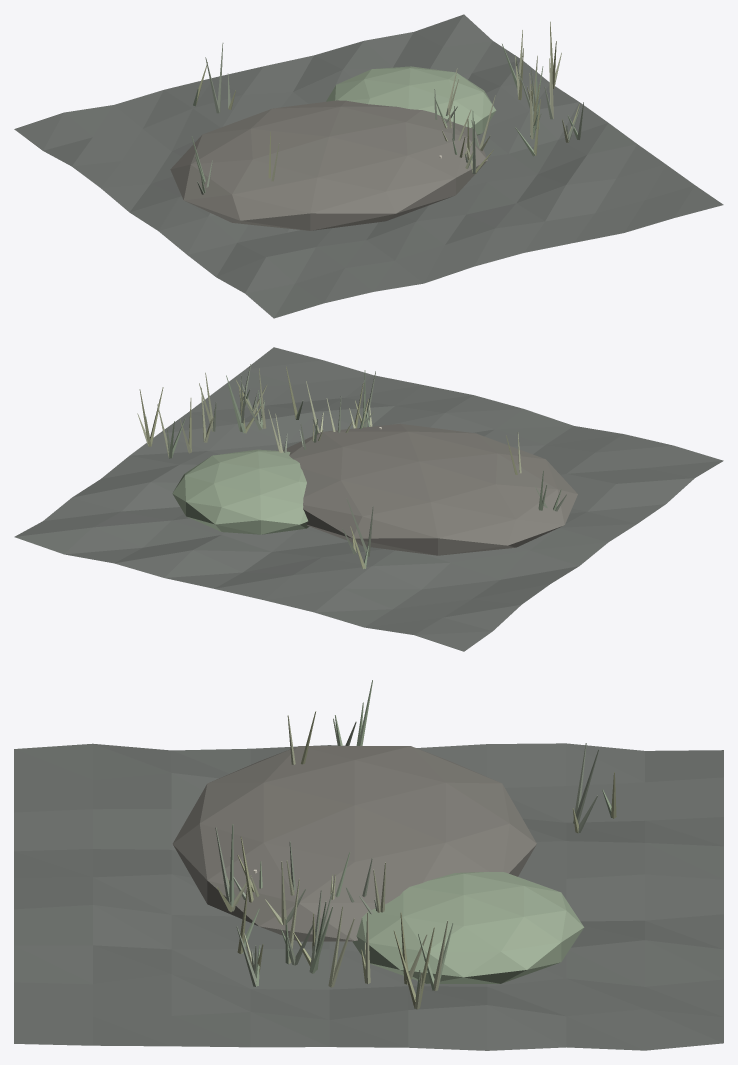
File: tser_sodden_hummock.glb
3 renders of one model, top to bottom at view 1: azimuth 30°, elevation 25°; view 2: azimuth 150°, elevation 25°; view 3: azimuth 270°, elevation 25°, orthographic. The views are drawn at different scales.
Visible parts, largest first — view 1: material_00, material_01, material_02, material_03, material_04, material_05; view 2: material_00, material_01, material_02, material_03, material_04, material_05; view 3: material_00, material_01, material_02, material_03, material_04, material_05.
Part boxes in pixels (x1,y1,x2,y2): material_00: [14, 14, 723, 318]; material_01: [170, 100, 487, 230]; material_02: [191, 44, 577, 192]; material_03: [271, 30, 568, 181]; material_04: [197, 43, 583, 194]; material_05: [196, 21, 579, 178]; material_00: [14, 347, 723, 651]; material_01: [283, 423, 577, 555]; material_02: [146, 370, 561, 568]; material_03: [137, 368, 521, 473]; material_04: [167, 364, 566, 556]; material_05: [139, 366, 517, 569]; material_00: [14, 743, 723, 1050]; material_01: [172, 746, 536, 941]; material_02: [228, 680, 611, 1000]; material_03: [227, 715, 447, 1009]; material_04: [215, 718, 599, 986]; material_05: [217, 711, 616, 1008].
Bounding box in the file's own units: 3 × 0.5799 × 3.
